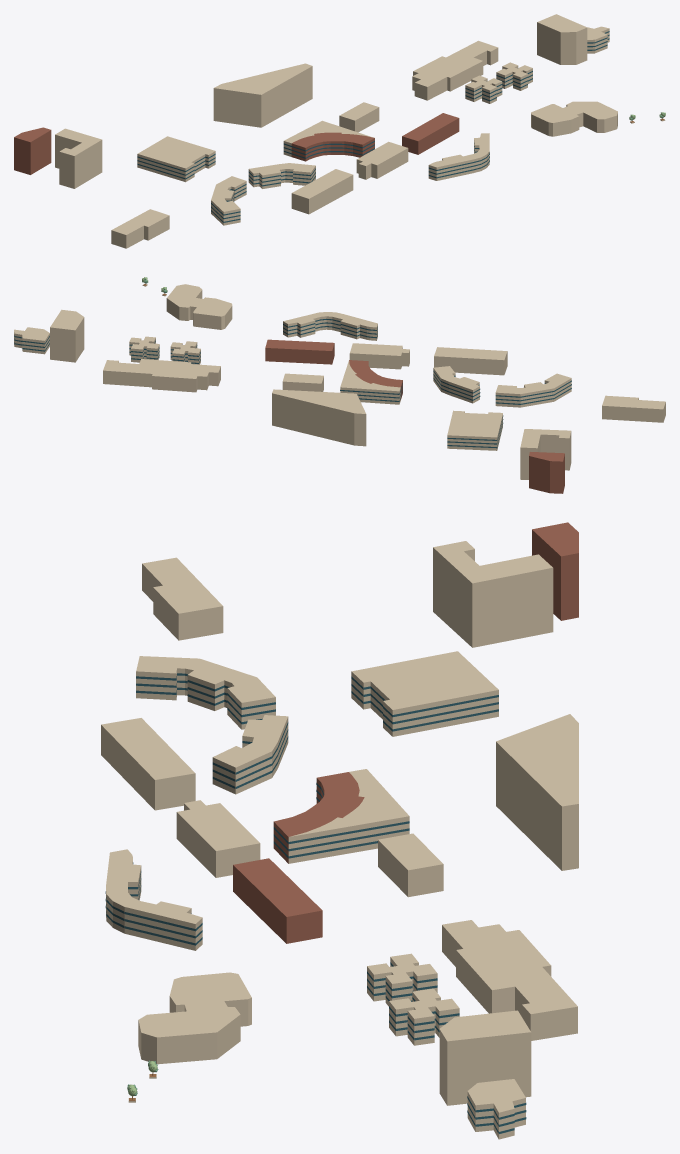
3 views of the same model, one above another, from view 1: azimuth 30°, elevation 25°; view 2: azimuth 150°, elevation 25°; view 3: azimuth 270°, elevation 25° (orthographic). The views are drawn at different scales.
Parts seen in each view (by area): view 1: osm-way-1352843192, osm-way-656626157, osm-way-1267699489, osm-way-1323408464, osm-way-1322937143, osm-way-1320354280, osm-way-534041289, osm-way-534041300, osm-way-1352842809, osm-way-534041279, osm-way-534041297, osm-way-534041283 (+10 smaller); view 2: osm-way-1352843192, osm-way-656626157, osm-way-1267699489, osm-way-1320354280, osm-way-534041279, osm-way-534041300, osm-way-534041294, osm-way-1322937143, osm-way-534041283, osm-way-1323408464, osm-way-1352842809, osm-way-534041282 (+10 smaller); view 3: osm-way-1323408464, osm-way-1352843192, osm-way-1267699489, osm-way-656626157, osm-way-1322937143, osm-way-534041294, osm-way-1320354280, osm-way-534041300, osm-way-534041287, osm-way-534041279, osm-way-534041283, osm-way-534041282 (+10 smaller).
Part boxes in pixels (x1=…): osm-way-1352843192: x1=213, y1=63, x2=312, y2=127; osm-way-656626157: x1=531, y1=101, x2=617, y2=136; osm-way-1267699489: x1=137, y1=136, x2=215, y2=182; osm-way-1323408464: x1=55, y1=128, x2=102, y2=188; osm-way-1322937143: x1=537, y1=14, x2=587, y2=64; osm-way-1320354280: x1=412, y1=56, x2=483, y2=100; osm-way-534041289: x1=291, y1=132, x2=374, y2=161; osm-way-534041300: x1=291, y1=169, x2=353, y2=214; osm-way-1352842809: x1=14, y1=127, x2=51, y2=174; osm-way-534041279: x1=428, y1=133, x2=489, y2=180; osm-way-534041297: x1=248, y1=163, x2=315, y2=188; osm-way-534041283: x1=402, y1=113, x2=459, y2=154; osm-way-1352843192: x1=272, y1=389, x2=366, y2=446; osm-way-656626157: x1=166, y1=284, x2=232, y2=329; osm-way-1267699489: x1=447, y1=410, x2=503, y2=450; osm-way-1320354280: x1=139, y1=359, x2=220, y2=392; osm-way-534041279: x1=283, y1=312, x2=377, y2=340; osm-way-534041300: x1=434, y1=347, x2=507, y2=375; osm-way-534041294: x1=495, y1=373, x2=571, y2=407; osm-way-1322937143: x1=50, y1=309, x2=84, y2=362; osm-way-534041283: x1=265, y1=339, x2=334, y2=364; osm-way-1323408464: x1=520, y1=429, x2=571, y2=479; osm-way-1352842809: x1=529, y1=452, x2=564, y2=493; osm-way-534041282: x1=349, y1=343, x2=409, y2=369; osm-way-1323408464: x1=433, y1=541, x2=553, y2=647; osm-way-1352843192: x1=496, y1=714, x2=578, y2=870; osm-way-1267699489: x1=351, y1=651, x2=498, y2=736; osm-way-656626157: x1=138, y1=972, x2=251, y2=1064; osm-way-1322937143: x1=439, y1=1010, x2=531, y2=1105; osm-way-534041294: x1=136, y1=656, x2=275, y2=729; osm-way-1320354280: x1=442, y1=920, x2=551, y2=1013; osm-way-534041300: x1=101, y1=718, x2=195, y2=810; osm-way-534041287: x1=288, y1=769, x2=409, y2=863; osm-way-534041279: x1=105, y1=849, x2=202, y2=950; osm-way-534041283: x1=233, y1=858, x2=322, y2=943; osm-way-534041282: x1=176, y1=800, x2=260, y2=877.
Size of the model in its own units: 665 by 36 by 242.
